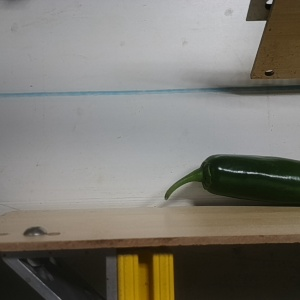Cut Point: (194, 153, 224, 197)
